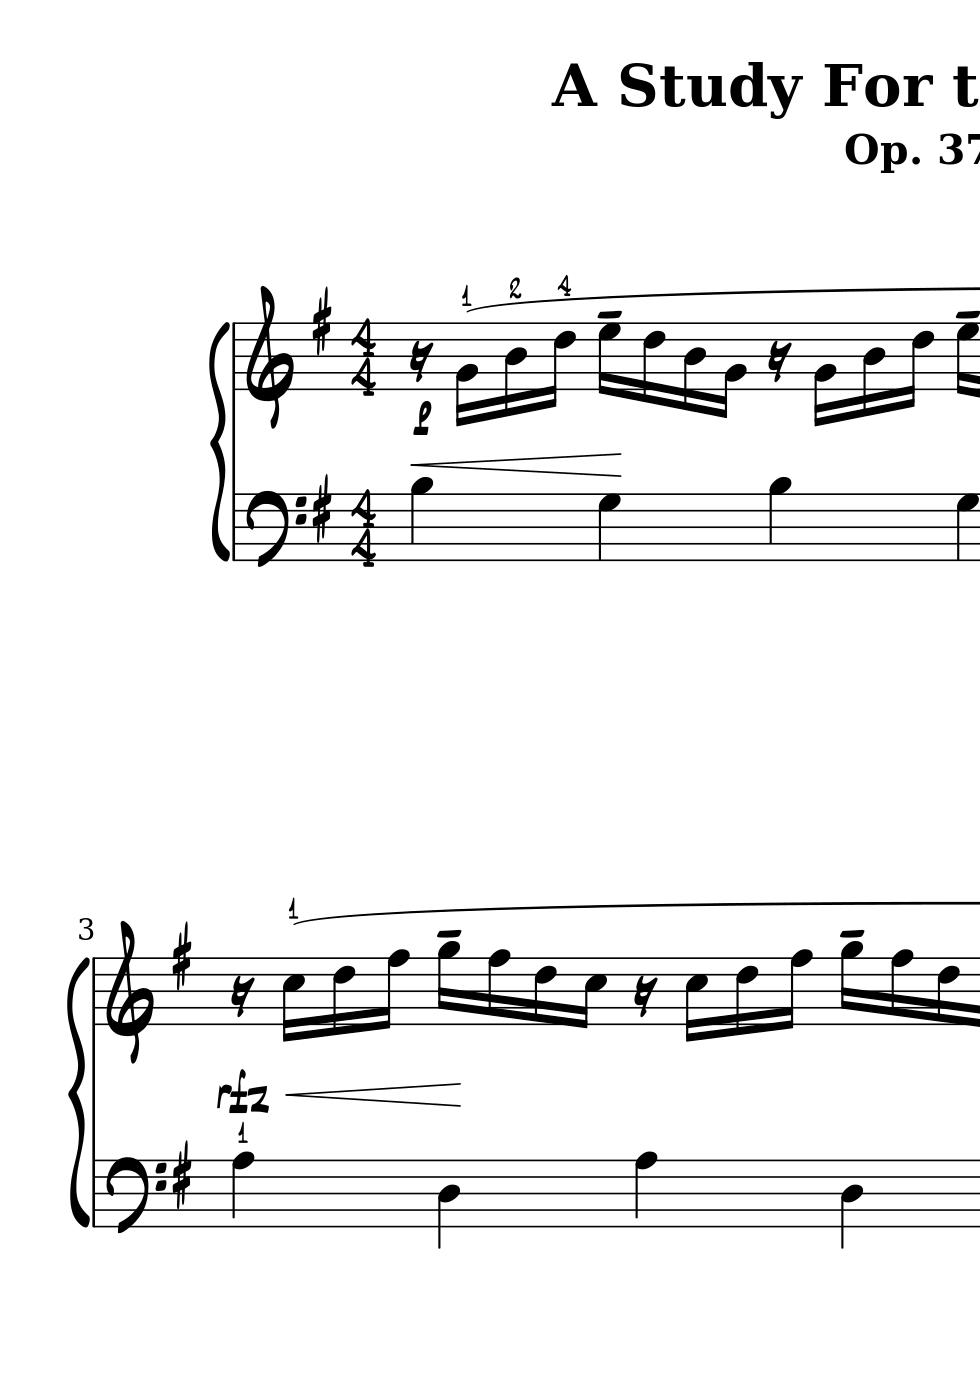1: (459, 282, 474, 308), (287, 897, 299, 920)
16_2: (716, 321, 746, 420), (453, 320, 478, 428), (812, 320, 837, 428)
16_4: (502, 322, 527, 419), (860, 321, 885, 419), (681, 321, 706, 414)
16_5: (574, 957, 607, 1031), (279, 955, 305, 1043), (682, 955, 708, 1043), (953, 316, 979, 401)
16_6: (899, 319, 935, 411), (540, 320, 575, 411), (640, 319, 665, 406), (330, 955, 356, 1037), (733, 954, 758, 1038), (935, 954, 960, 1027), (532, 955, 556, 1027)
16_7: (595, 320, 620, 399)
16_8: (375, 948, 409, 1033), (778, 948, 811, 1032), (485, 948, 510, 1027), (888, 948, 913, 1027)
16_9: (434, 940, 459, 1028), (838, 938, 861, 1027)
2: (507, 276, 523, 299)
3: (77, 915, 94, 942)
4: (349, 526, 380, 567), (349, 357, 380, 396), (350, 316, 378, 358), (350, 488, 378, 528), (556, 271, 572, 297)
4_4: (436, 1159, 461, 1249), (839, 1158, 863, 1250)
4_7: (596, 491, 622, 561), (953, 491, 978, 563)
4_8: (632, 1150, 657, 1228), (230, 1150, 253, 1229)
4_9: (767, 475, 791, 562), (408, 475, 432, 562)
Brace: (65, 952, 90, 1229), (208, 320, 230, 563)
Crescendo_hairpin: (409, 454, 622, 477), (283, 1081, 461, 1107)
Fclef: (104, 1155, 167, 1236), (245, 489, 307, 571)
Gclef: (243, 283, 295, 429), (104, 919, 156, 1064)
Rests16: (631, 973, 657, 1020), (766, 339, 792, 384), (229, 973, 253, 1019), (408, 339, 433, 384)
Sharp: (169, 920, 194, 993), (310, 286, 333, 357), (170, 1141, 193, 1211)
Single_barline: (227, 323, 241, 390), (88, 1160, 101, 1226), (228, 494, 241, 559), (89, 960, 100, 1027)
TimeSig: (348, 317, 377, 399), (348, 488, 377, 569)
p: (412, 401, 432, 438)
rfz: (213, 1067, 273, 1115)
